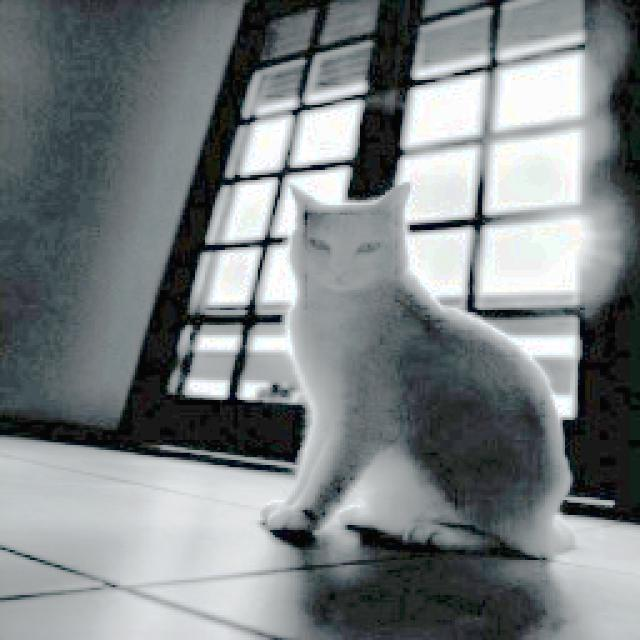cat: (253, 180, 585, 568)
